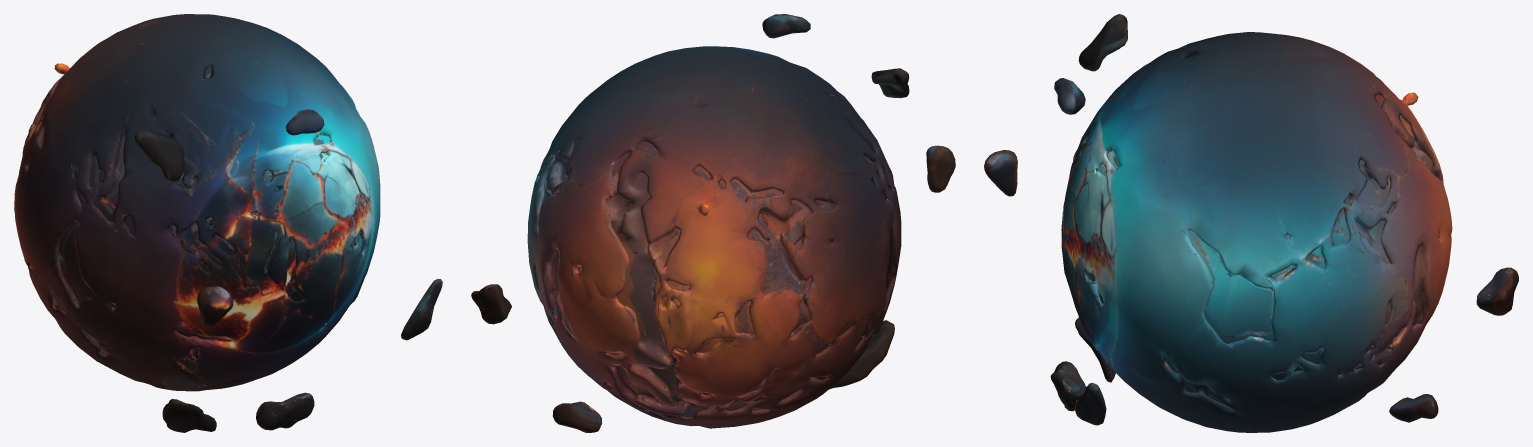
The model's file is Shattered_Sphere_0901195948.glb.
3 renders of one model, left to right at view 1: azimuth 30°, elevation 25°; view 2: azimuth 150°, elevation 25°; view 3: azimuth 270°, elevation 25°, orthographic. The views are drawn at different scales.
Parts seen in each view (by area): view 1: Mesh_0.001; view 2: Mesh_0.001; view 3: Mesh_0.001.
Part boxes in pixels (<box>): Mesh_0.001: <box>14,14,442,432</box>; Mesh_0.001: <box>471,14,955,432</box>; Mesh_0.001: <box>984,14,1518,432</box>.
Bounding box in the file's own units: 1.09 × 1.1 × 1.45.
1 material, 1 textured.
